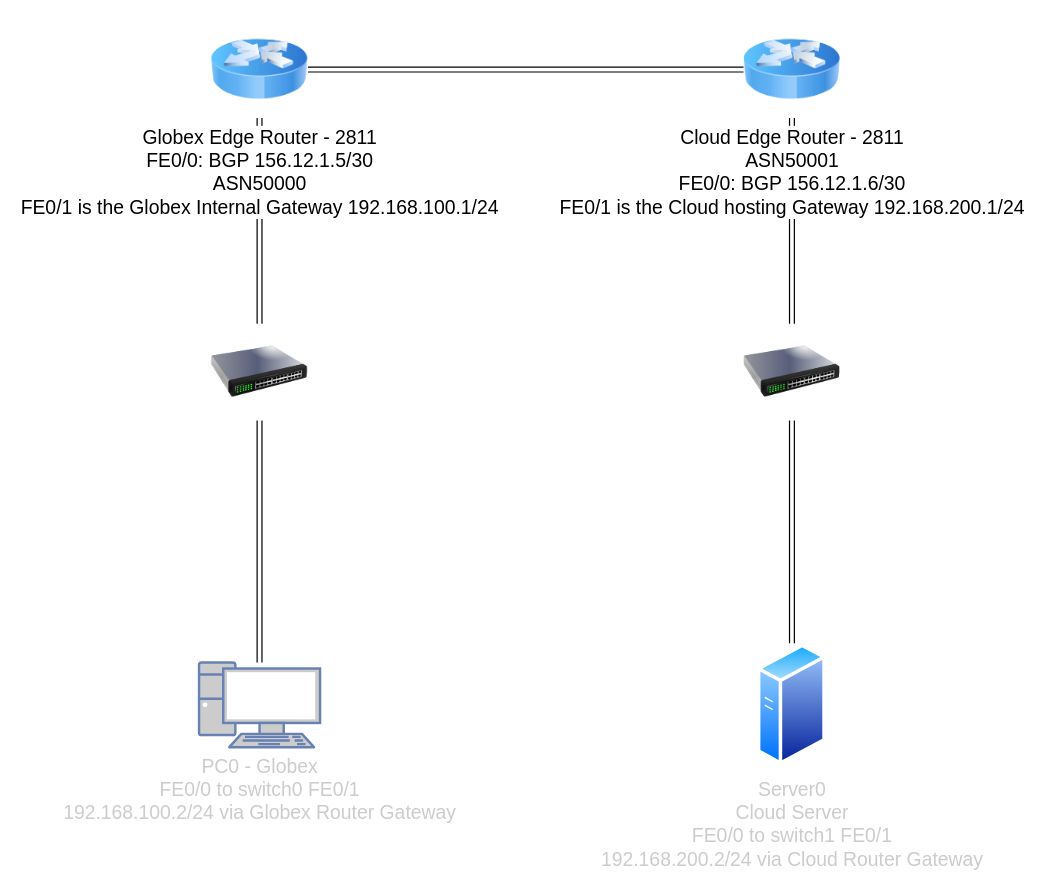
The diagram is 1045 pixels wide and 892 high, and some of its shapes have lost their labels. Here are the shapes that lost their labels. From the top down, the centre of each, then its label:
(259,371): Switch 0 - 2960 Globex FE0/1 to router FE0/1 FE0/2 to host FE0/0
(791,371): Switch 1 - 2960 Cloud FE0/1 to router FE0/1 FE0/2 to server FE0/1
